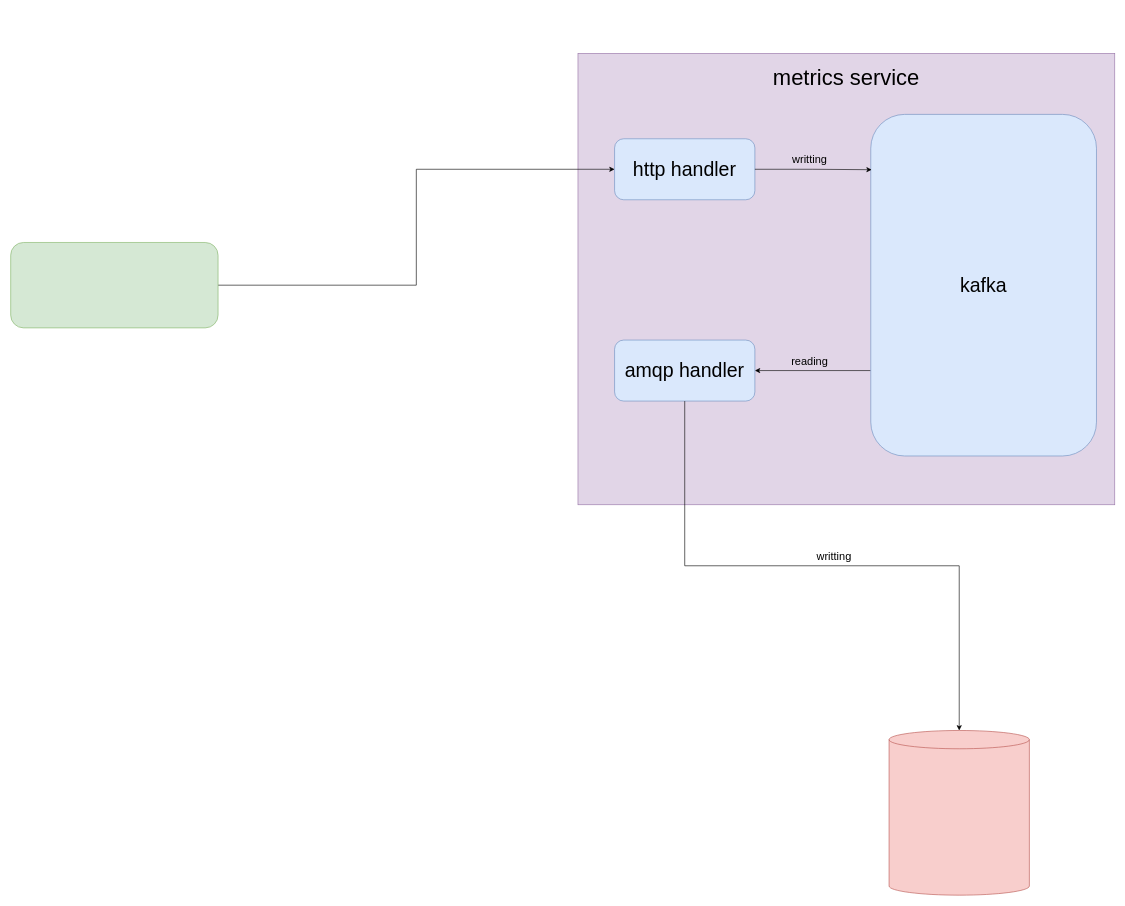
Image size: 1125x906. Some labels were removed from this diagram. Here are the shapes that lost their labels. From the top down, the centre of each, then its label:
At point (114, 285): "client".
At point (958, 812): "db".
